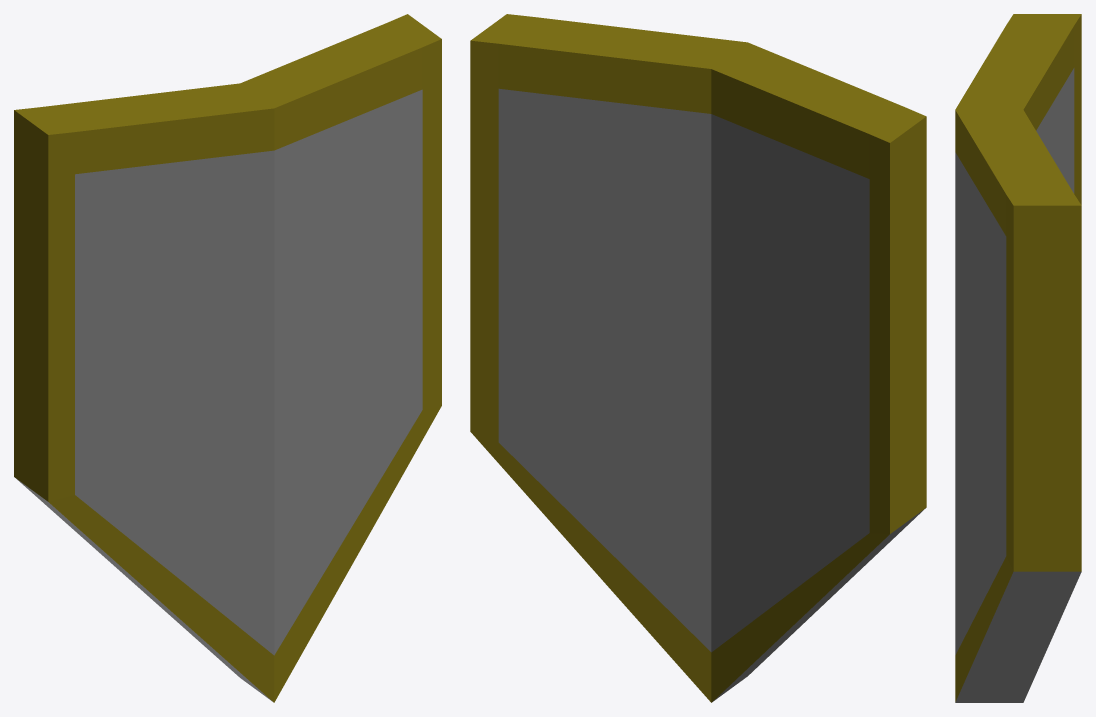
The model's file is Shield.fbx.
The picture shows the model from 3 angles, left to right: view 1: azimuth 30°, elevation 25°; view 2: azimuth 150°, elevation 25°; view 3: azimuth 270°, elevation 25°; orthographic projection. The views are drawn at different scales.
Parts seen in each view (by area): view 1: Shield; view 2: Shield; view 3: Shield.
Boxes of the visible parts, x1,y1,x2,y2 form: Shield: (14, 14, 441, 702); Shield: (470, 14, 926, 702); Shield: (955, 14, 1081, 702).
Size of the model in its own units: 262 by 377 by 72.95.
